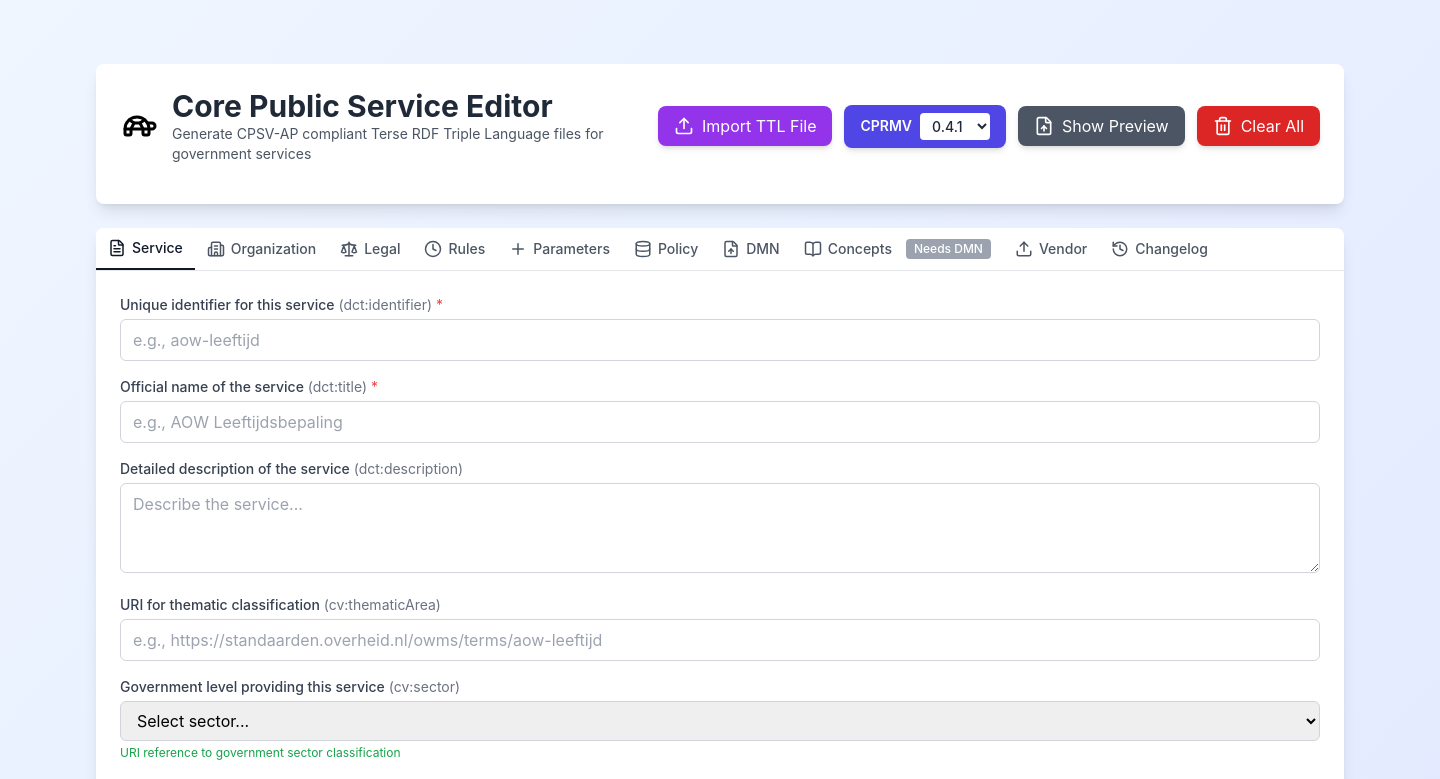
Test case: lazy-loaded tabs › the DMN tab stays mounted after switching away from it
The width and height of the screenshot is (1440, 779).
Click the button "DMN". click: (751, 249)
box: [710,228,792,270]
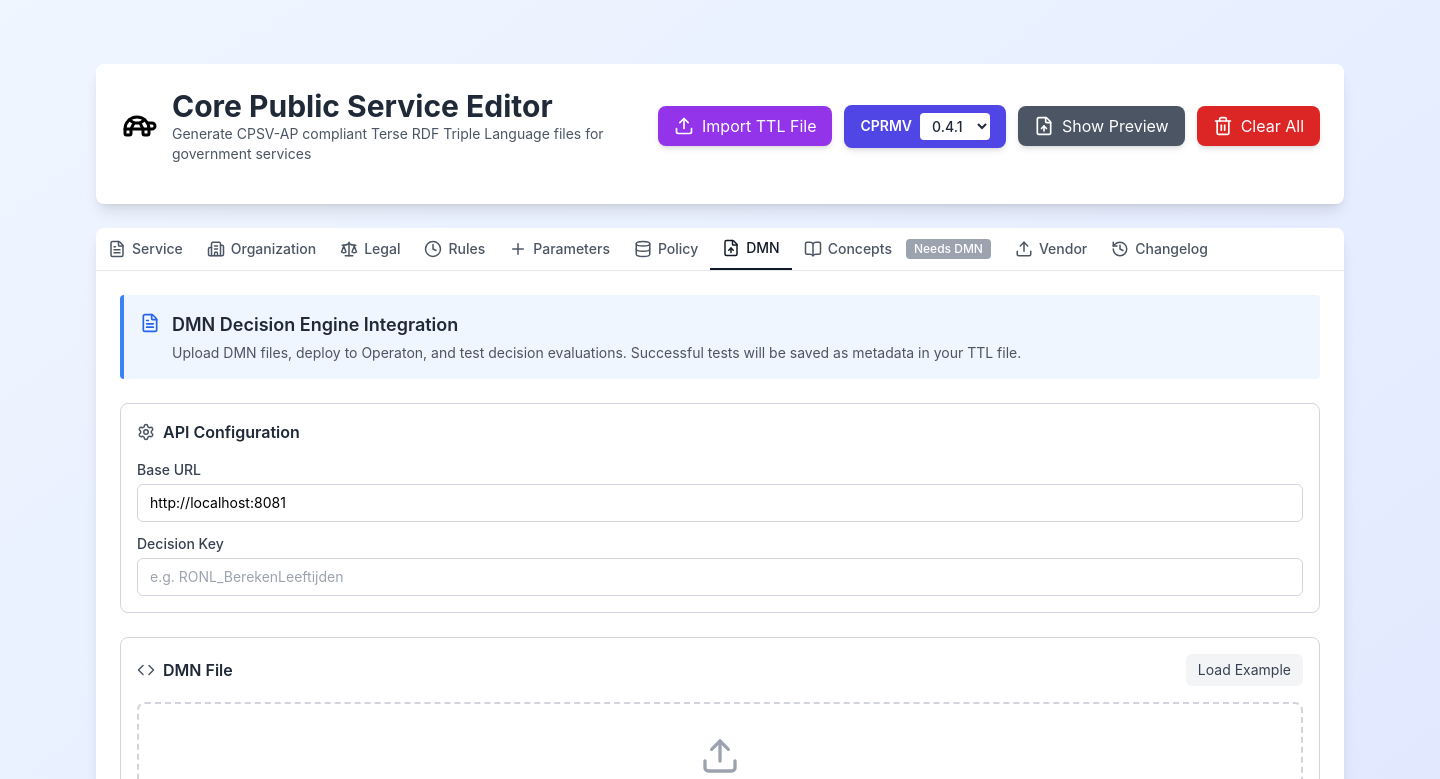
Expected: the heading "DMN Decision Engine Integration" is shown, [172,314,458,335]
Click the button "Service". click: (145, 249)
box: [96,228,195,270]
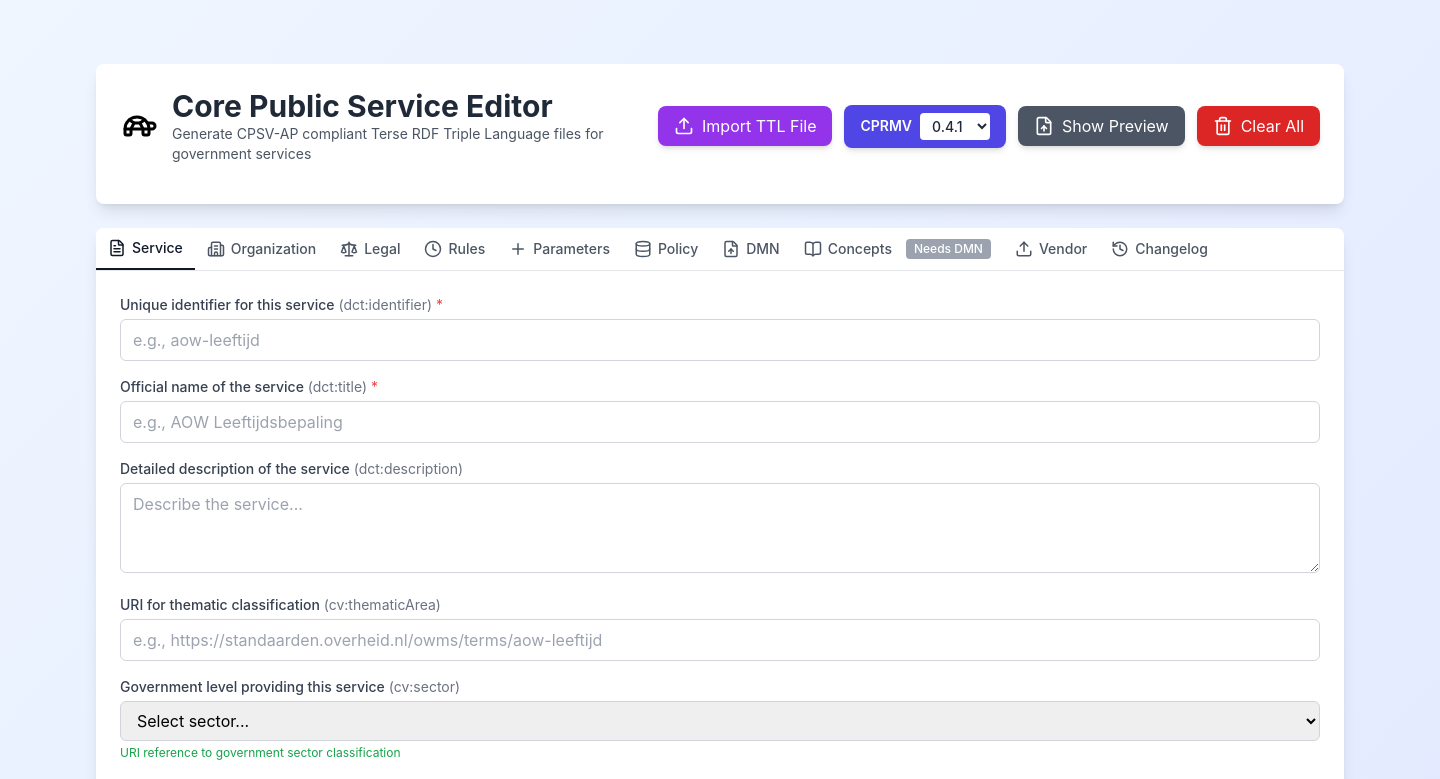
Expected: the field labelled "Unique identifier for this service (dct:identifier) *" is shown, [120,319,1320,361]
